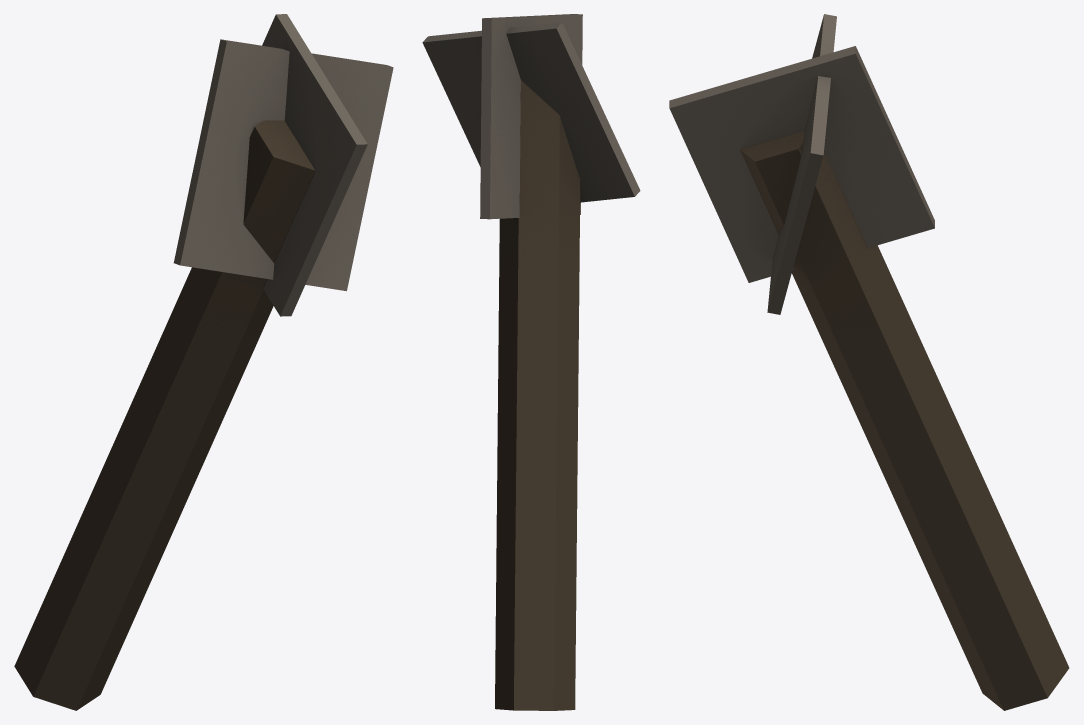
File: trace_typhon.glb
3 views of the same model, side by side, from view 1: azimuth 30°, elevation 25°; view 2: azimuth 150°, elevation 25°; view 3: azimuth 270°, elevation 25° (orthographic). The views are drawn at different scales.
Parts seen in each view (by area): view 1: trace_typhon.001; view 2: trace_typhon.001; view 3: trace_typhon.001.
Boxes of the visible parts, x1=… form: trace_typhon.001: x1=14, y1=14, x2=393, y2=710; trace_typhon.001: x1=422, y1=14, x2=640, y2=710; trace_typhon.001: x1=669, y1=14, x2=1069, y2=710.
Bounding box in the file's own units: 0.0931 × 0.2387 × 0.1211.
2 materials, 2 textured.
